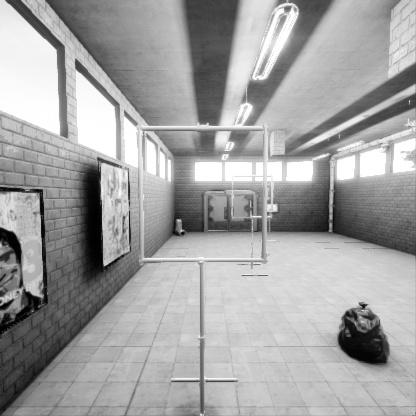gate: (142, 162, 272, 291), (233, 200, 275, 242), (265, 206, 273, 233)
